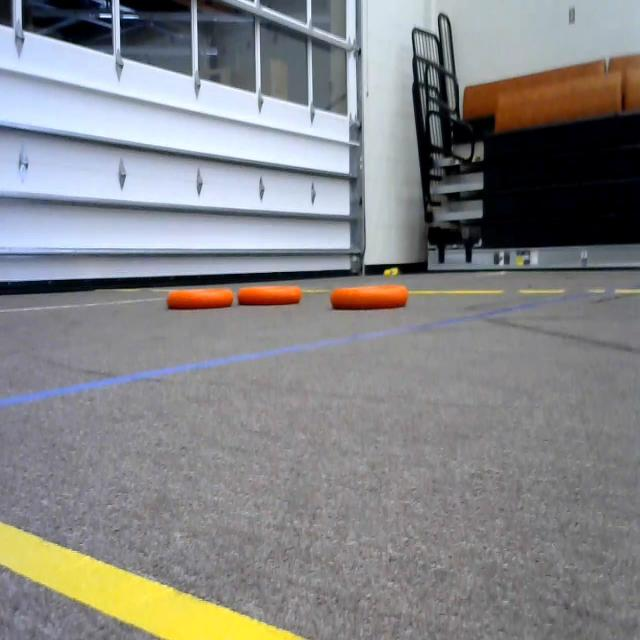note: (157, 274, 235, 322), (235, 274, 306, 316), (329, 278, 406, 316)
